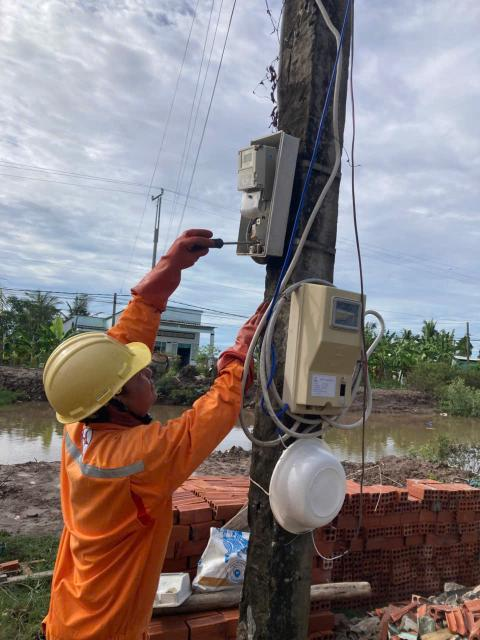gloves: (128, 228, 241, 307), (218, 299, 290, 372)
helmet: (34, 325, 158, 425)
